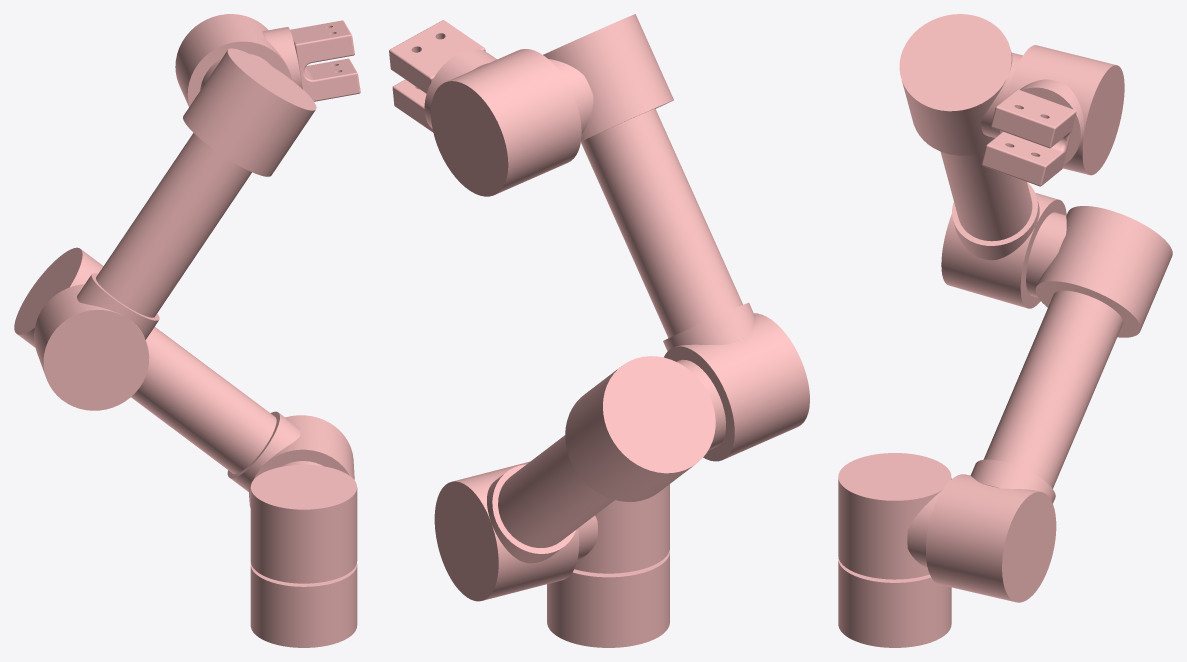
Rendered from sample_robotic_arm.glb.
The picture shows the model from 3 angles, left to right: view 1: azimuth 30°, elevation 25°; view 2: azimuth 150°, elevation 25°; view 3: azimuth 270°, elevation 25°; orthographic projection. The views are drawn at different scales.
Visible parts, largest first — view 1: 3-2 - Part, 2-1 - Part, 2-4 - Part, 2-5 - Part, 3-1 - Part, 1-1 - Part, 2-6 - Part, 2-2 - Part, 4-1 - Part, 2-3 - Part; view 2: 3-2 - Part, 2-6 - Part, 2-3 - Part, 2-4 - Part, 2-2 - Part, 2-5 - Part, 1-1 - Part, 3-1 - Part, 2-1 - Part, 4-1 - Part; view 3: 2-2 - Part, 3-1 - Part, 2-5 - Part, 2-3 - Part, 2-1 - Part, 2-6 - Part, 1-1 - Part, 2-4 - Part, 4-1 - Part, 3-2 - Part.
Part boxes in pixels (box(x1,y1,x2,y2)): 3-2 - Part: box(96, 133, 251, 317); 2-1 - Part: box(250, 461, 357, 583); 2-4 - Part: box(34, 273, 159, 410); 2-5 - Part: box(183, 48, 316, 176); 3-1 - Part: box(131, 327, 276, 473); 1-1 - Part: box(250, 563, 357, 647); 2-6 - Part: box(175, 14, 302, 106); 2-2 - Part: box(227, 411, 354, 507); 4-1 - Part: box(290, 20, 360, 101); 2-3 - Part: box(14, 247, 103, 347); 3-2 - Part: box(581, 108, 742, 337); 2-6 - Part: box(424, 49, 581, 196); 2-3 - Part: box(565, 356, 725, 501); 2-4 - Part: box(663, 302, 809, 461); 2-2 - Part: box(434, 461, 579, 601); 2-5 - Part: box(543, 14, 673, 141); 1-1 - Part: box(547, 550, 669, 647); 3-1 - Part: box(498, 435, 614, 547); 2-1 - Part: box(574, 484, 669, 573); 4-1 - Part: box(389, 20, 485, 132); 2-2 - Part: box(926, 459, 1056, 602); 3-1 - Part: box(983, 290, 1123, 488); 2-5 - Part: box(899, 14, 1022, 155); 2-3 - Part: box(1026, 206, 1172, 337); 2-1 - Part: box(838, 453, 951, 579); 2-6 - Part: box(1000, 45, 1124, 175); 1-1 - Part: box(838, 557, 951, 647); 2-4 - Part: box(941, 182, 1066, 308); 4-1 - Part: box(981, 89, 1076, 186); 3-2 - Part: box(940, 152, 1032, 241).
Bounding box in the file's own units: 0.2174 × 0.3441 × 0.1771.
